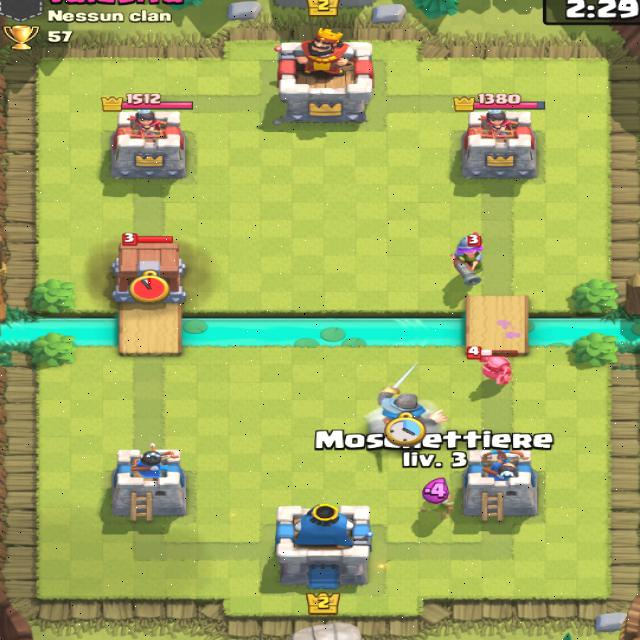Enemy-GoblinCage: (119, 238, 184, 302)
Enemy-MiniPEKKA: (473, 349, 517, 392)
Enemy-Musketeer: (449, 232, 492, 286)
Player-Archer: (422, 475, 454, 508)
Player-Knight: (372, 375, 449, 444)
